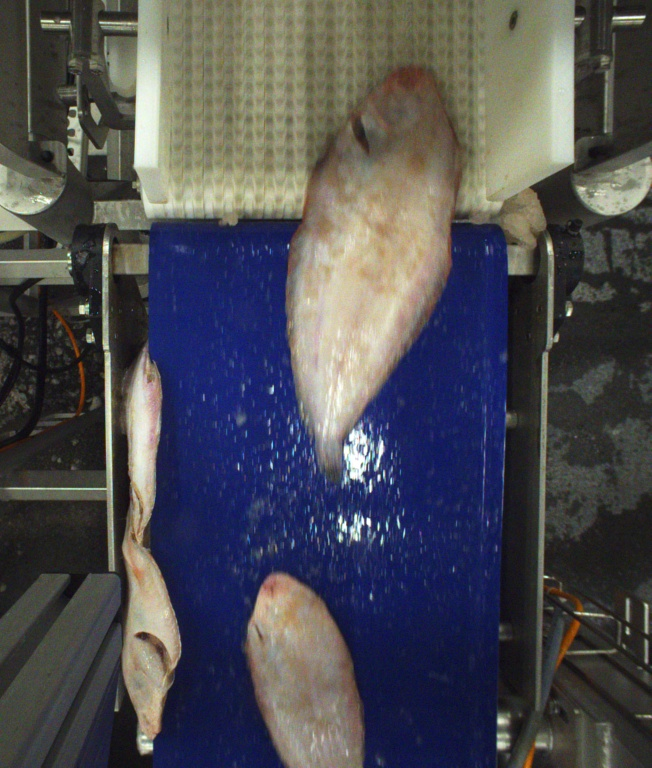SOL: (285, 58, 457, 481)
